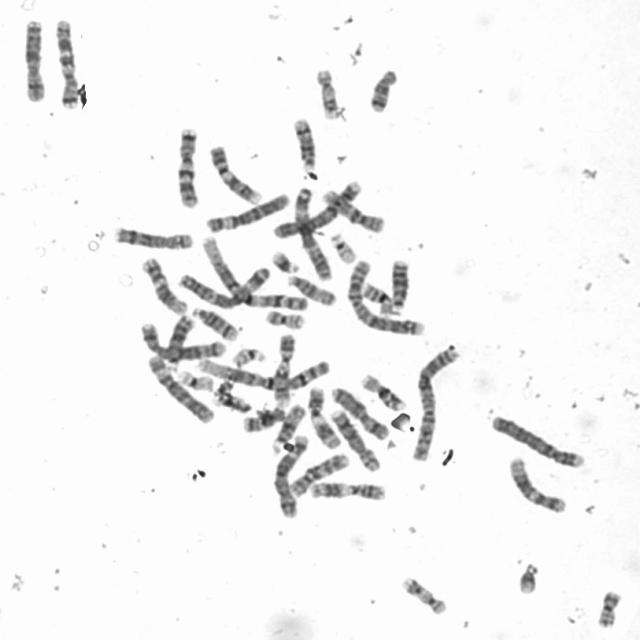A1: (196, 230, 310, 314), (192, 351, 333, 392)
A2: (344, 253, 429, 338), (407, 341, 462, 462)
A3: (175, 261, 272, 308), (290, 182, 334, 280)
B4: (270, 175, 365, 240), (487, 410, 588, 470)
B5: (134, 318, 228, 361), (269, 431, 311, 518)
C10: (318, 184, 388, 234), (284, 448, 352, 498)
C11: (304, 381, 344, 450), (306, 476, 390, 502)
C12: (504, 451, 569, 515), (137, 252, 188, 316)
C6: (144, 350, 217, 424), (202, 188, 292, 233)
C7: (51, 14, 81, 111), (172, 122, 202, 210)
C8: (328, 404, 384, 473), (110, 222, 195, 251)
C9: (205, 140, 265, 206), (270, 329, 298, 406)
D13: (161, 311, 196, 367), (386, 254, 412, 310)
D14: (187, 303, 240, 342), (290, 113, 319, 171)
D15: (268, 400, 308, 456), (282, 270, 338, 307)
E16: (357, 370, 407, 412), (362, 280, 398, 319)
E17: (398, 572, 450, 616), (312, 62, 342, 120)
E18: (365, 63, 401, 114), (239, 402, 288, 433)
F19: (174, 366, 216, 392), (210, 388, 252, 414)
F20: (593, 585, 624, 629), (260, 305, 308, 330)
G21: (514, 556, 542, 596), (268, 246, 302, 274)
G22: (326, 228, 359, 264), (228, 343, 270, 368)
X: (327, 381, 391, 442), (19, 15, 48, 104)
